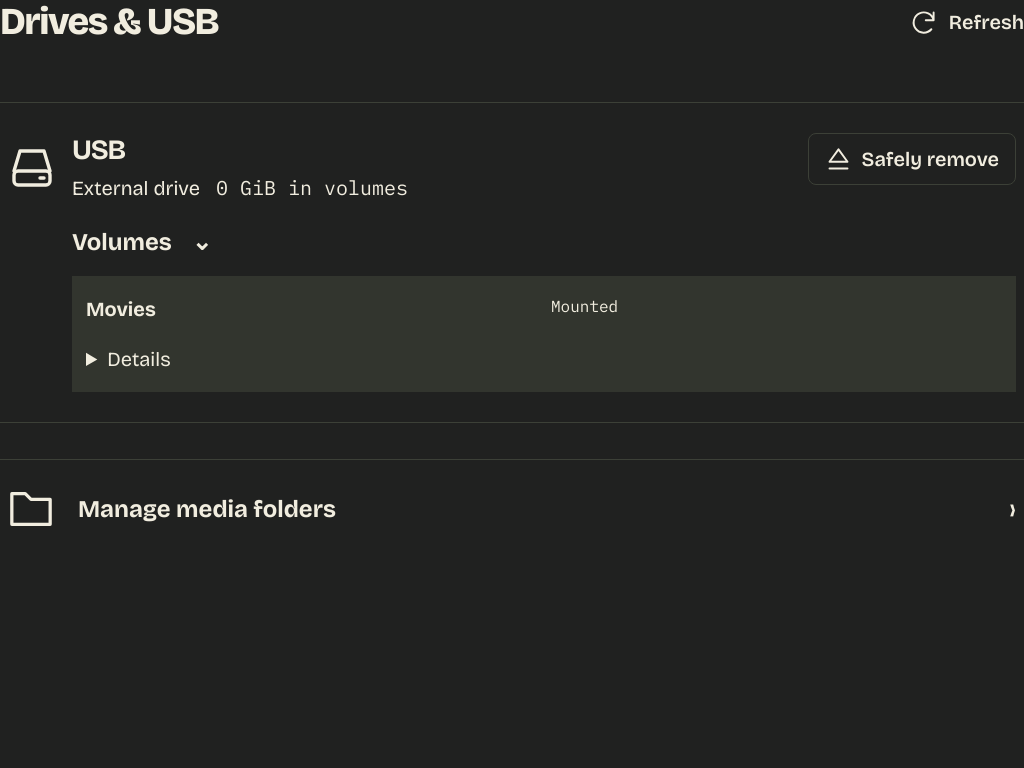
Test: reports unmounted completion without claiming the hardware powered off
The width and height of the screenshot is (1024, 768).
Click the button "Safely remove" at point(912, 159), box x1=808 y1=133 x2=1016 y2=185
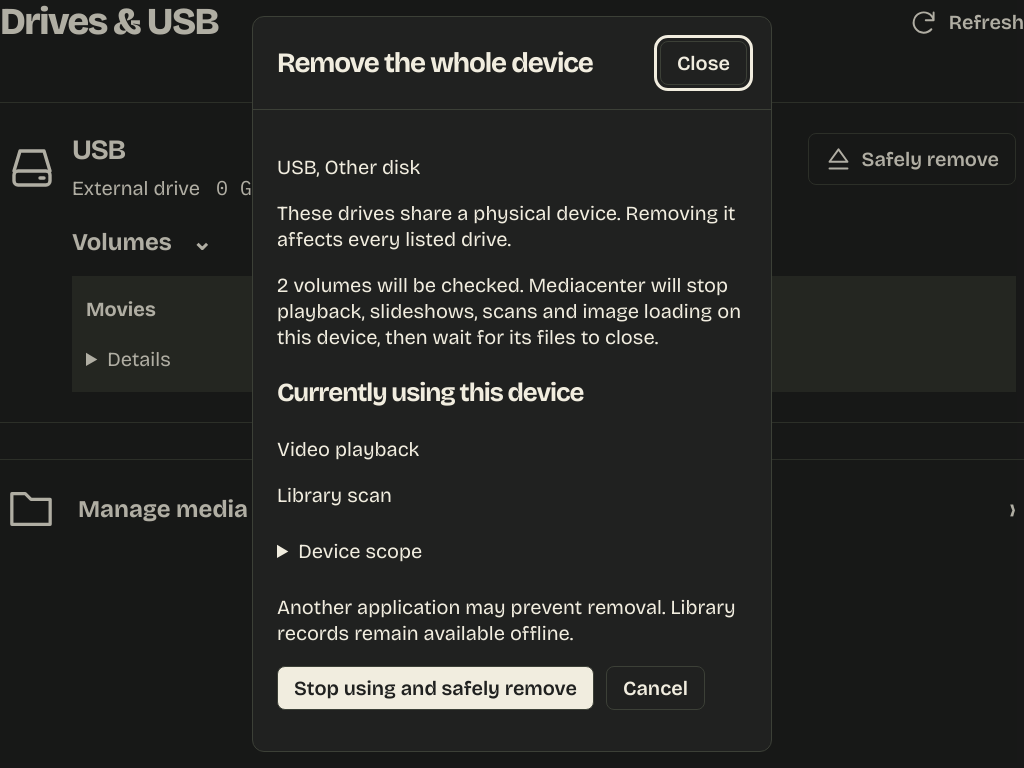
Click the button "Stop using and safely remove" at point(435, 688), box x1=277 y1=666 x2=594 y2=710
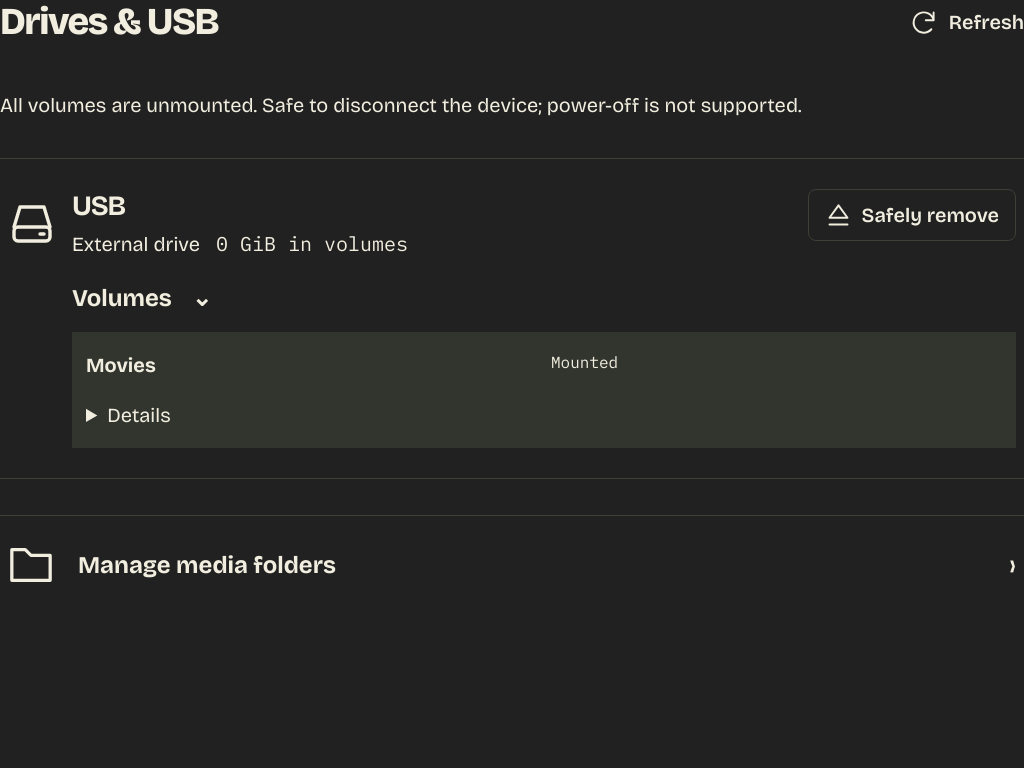
Expected: the message shows "All volumes are unmounted. Safe to disconnect", x1=0 y1=93 x2=802 y2=117
